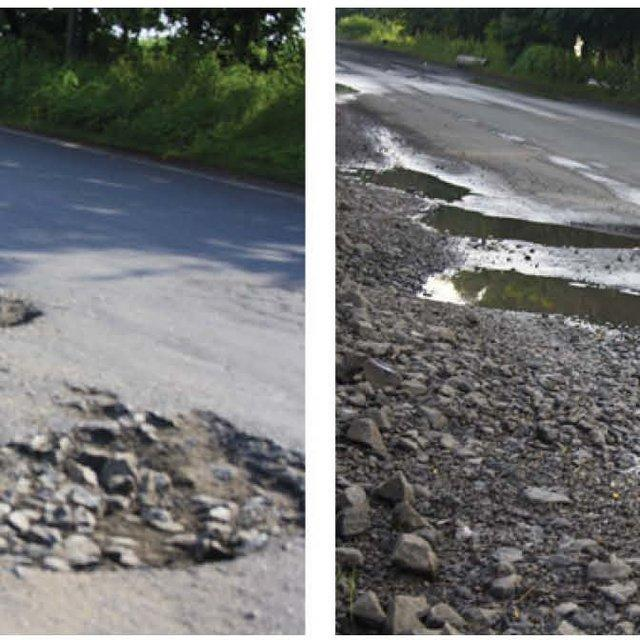Pothole: (0, 371, 305, 573), (419, 269, 640, 326), (420, 206, 640, 249)
